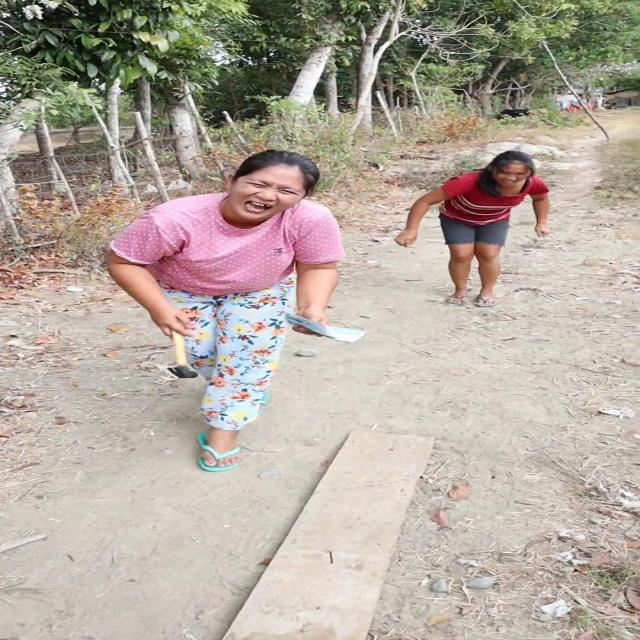hammer: (168, 328, 196, 380)
